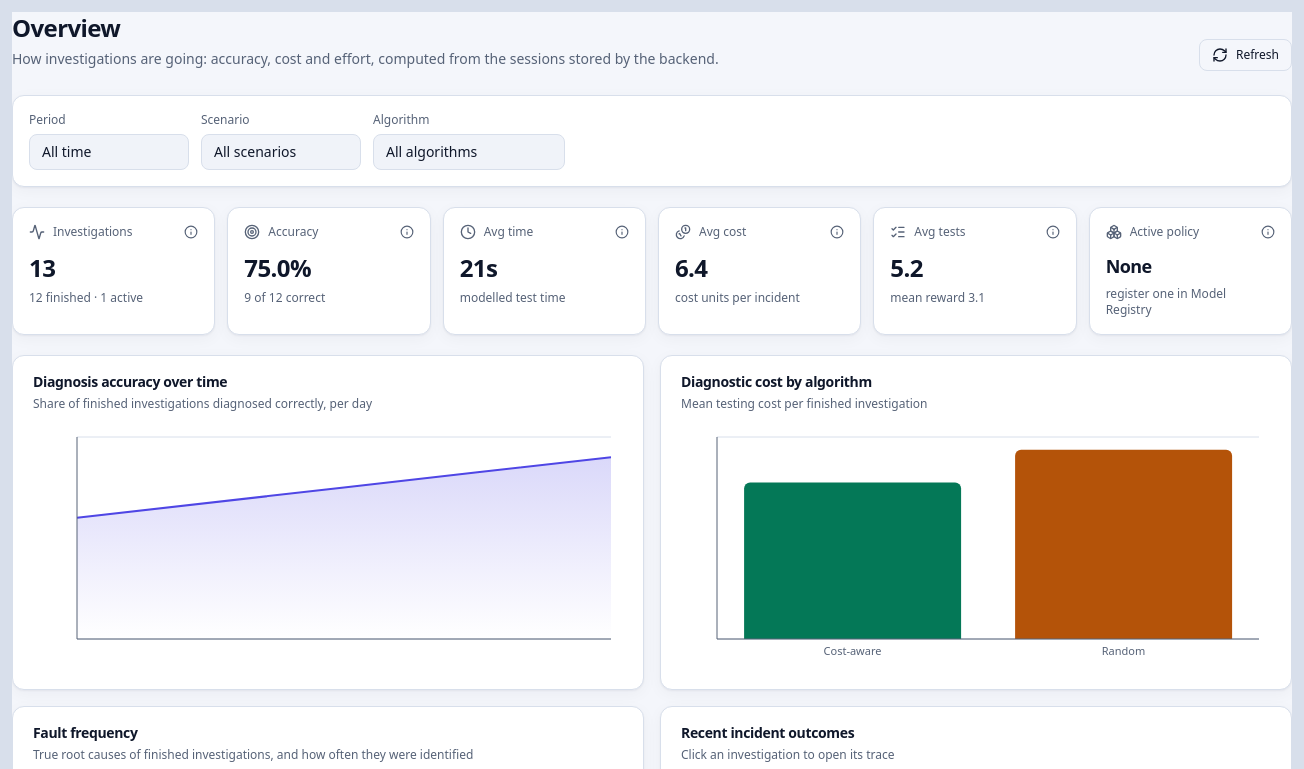
Test: Overview › validates a custom date range
Expected: the text "75.0%" is shown, [244,251,311,284]
Select "Custom range" in the dropdown labelled "Period" at (109, 152), box [29,134,189,170]
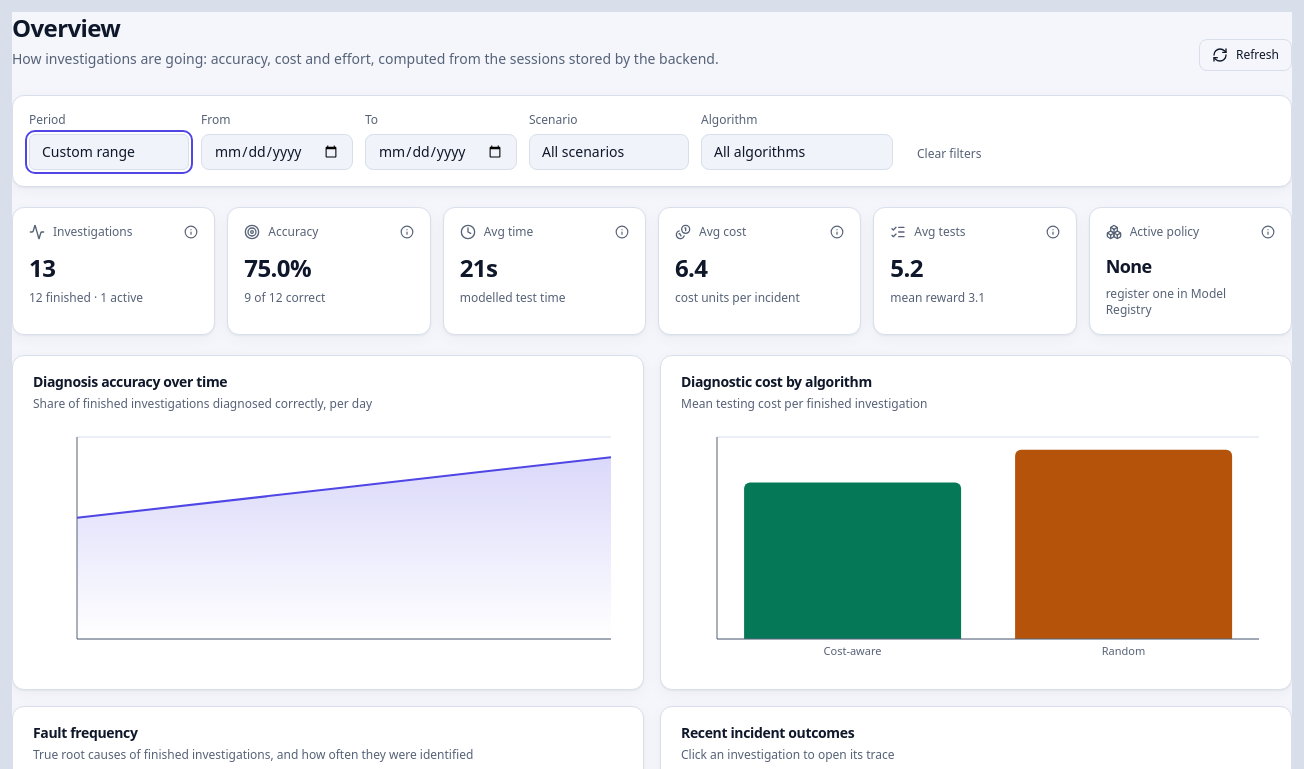
Type "2026-10-20" into the date field named "From date" at (277, 152), box [201,134,353,170]
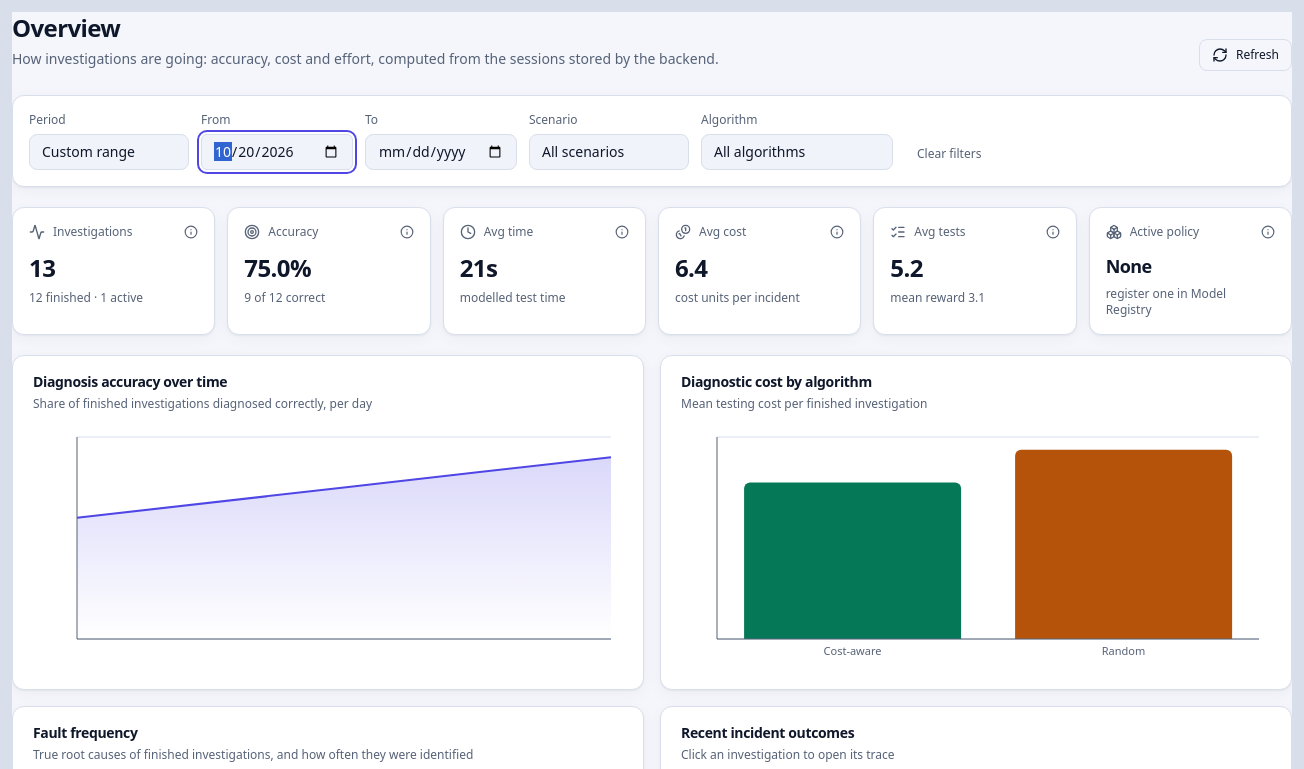
Type "2026-10-10" into the date field named "To date" at (441, 152), box [365,134,517,170]
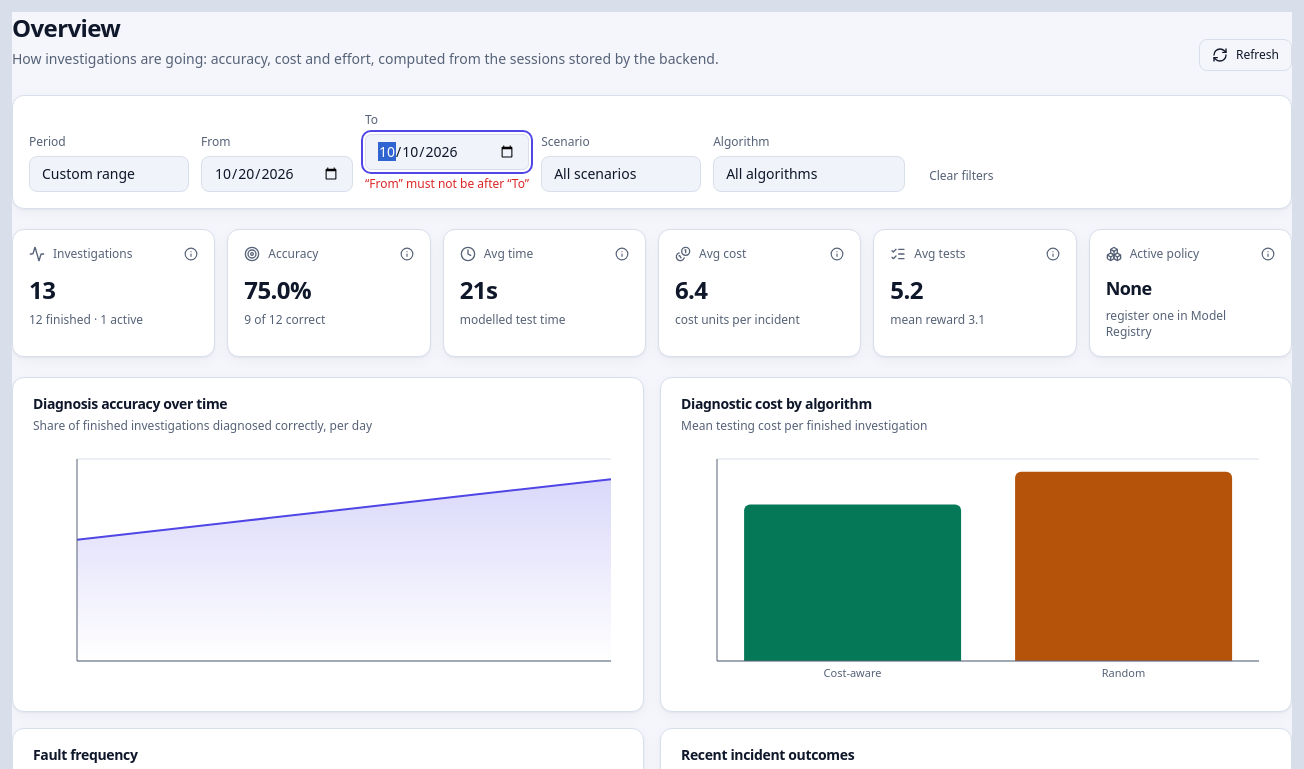
Now the text "“From” must not be after “To”" is shown, box [365,176,529,192]
